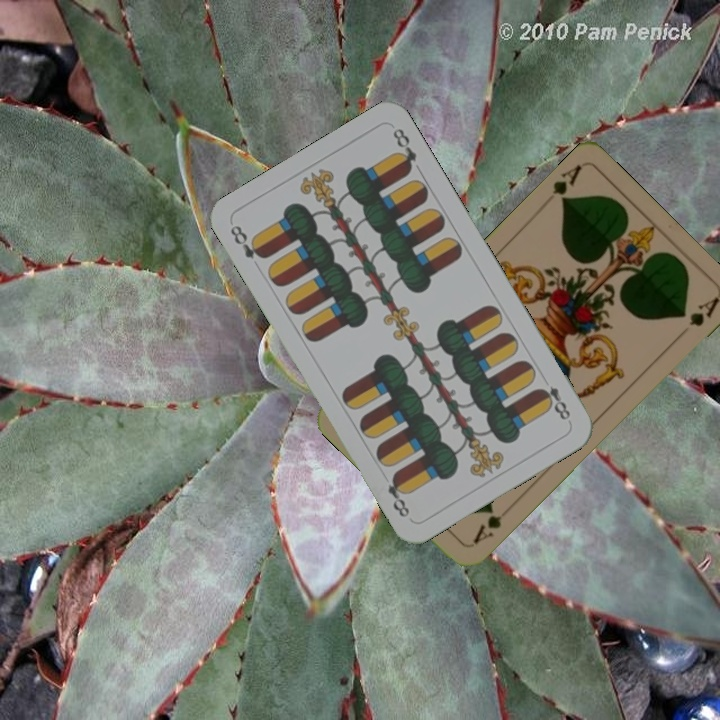E8: (226, 220, 269, 262), (534, 381, 573, 423)
GA: (469, 501, 515, 547), (548, 160, 585, 208)
